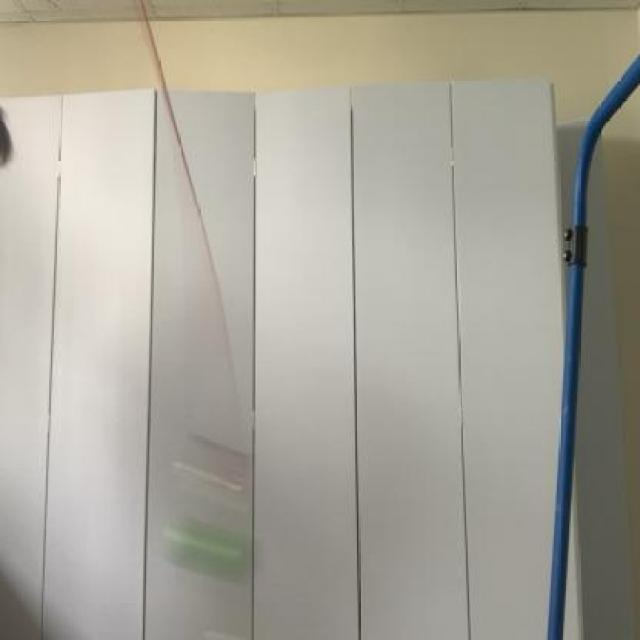baseball: (139, 504, 267, 593)
